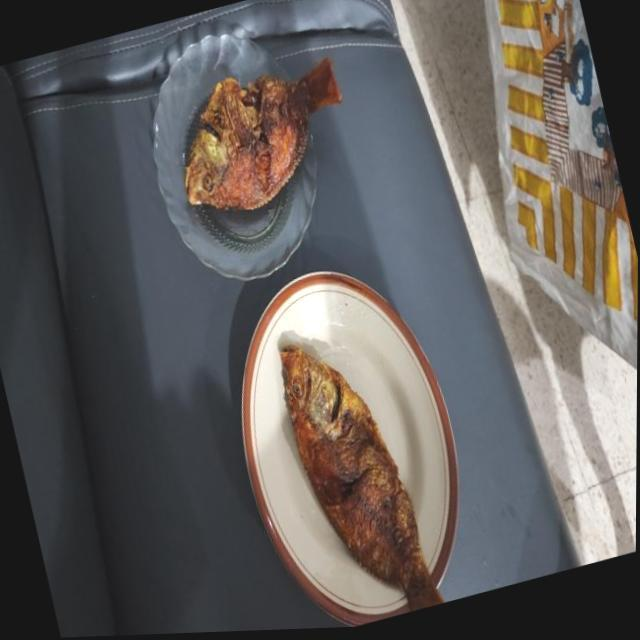ikan_mujair: (281, 344, 444, 610), (184, 56, 341, 210)
